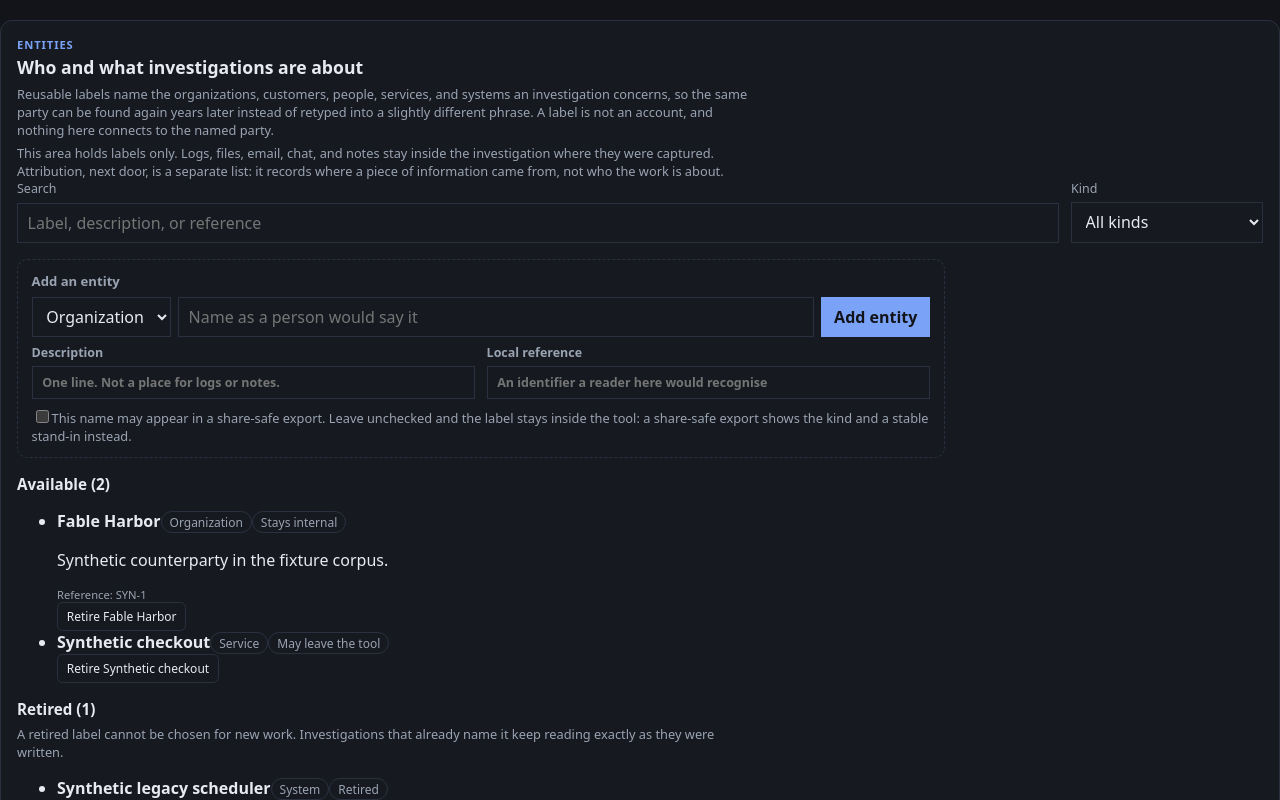
it: the Entities area › filters by kind and by search
Expected: the text "Fable Harbor" is shown, [57,510,160,532]
Select "Service (1)" in the dropdown named "Filter entities by kind": (1167, 222) [1071,202,1263,243]
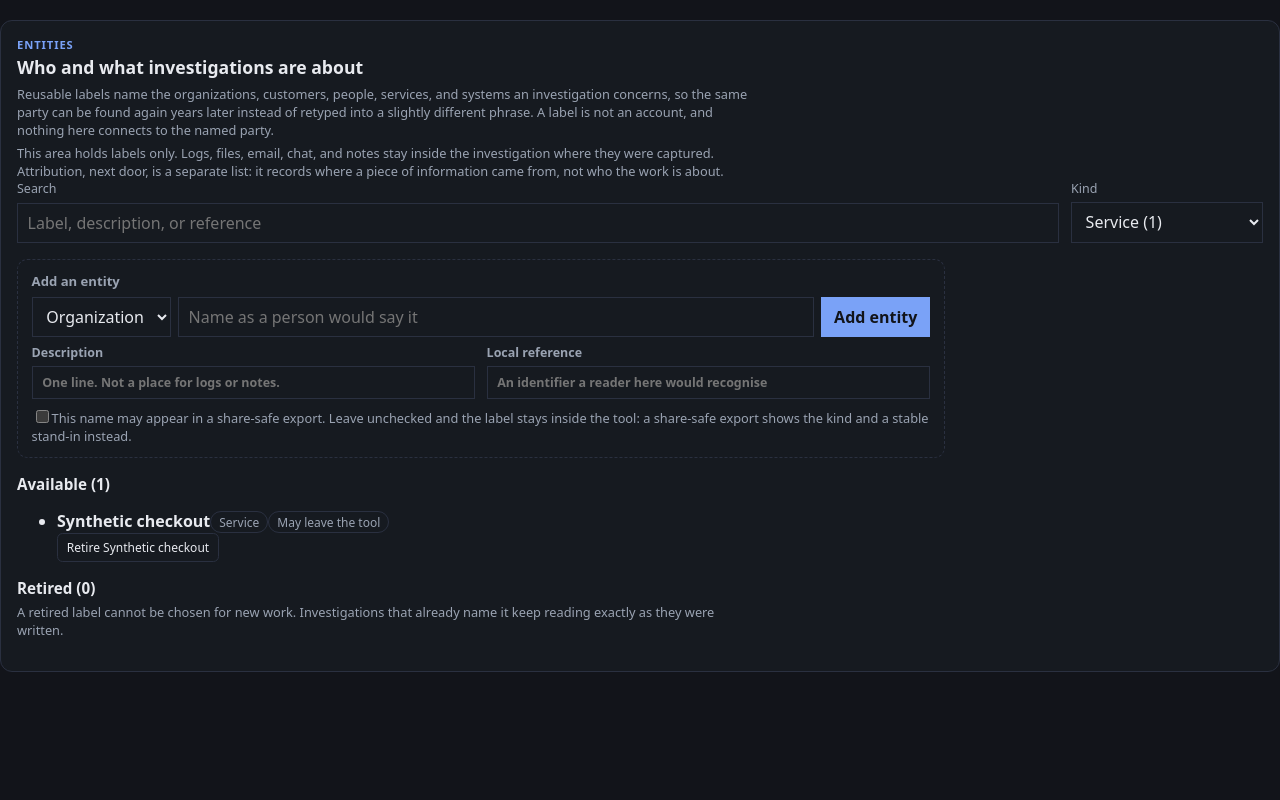
Expected: the text "Synthetic checkout" is shown, [57,510,210,532]
Result: the text "Fable Harbor" is gone
Select "All kinds" in the dropdown named "Filter entities by kind": (1167, 222) [1071,202,1263,243]
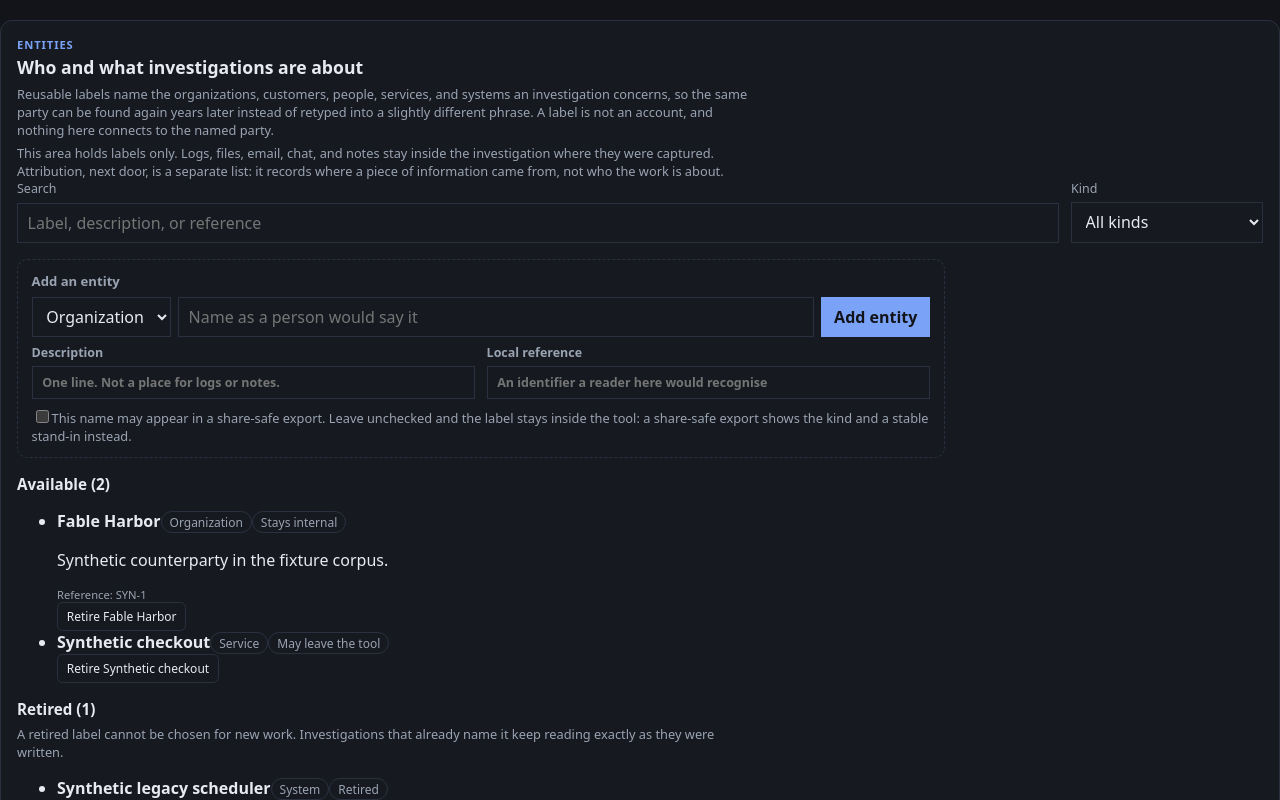
In the search field named "Search entities by label, description, or reference": (538, 223) [17,203,1059,243], type "harbor"
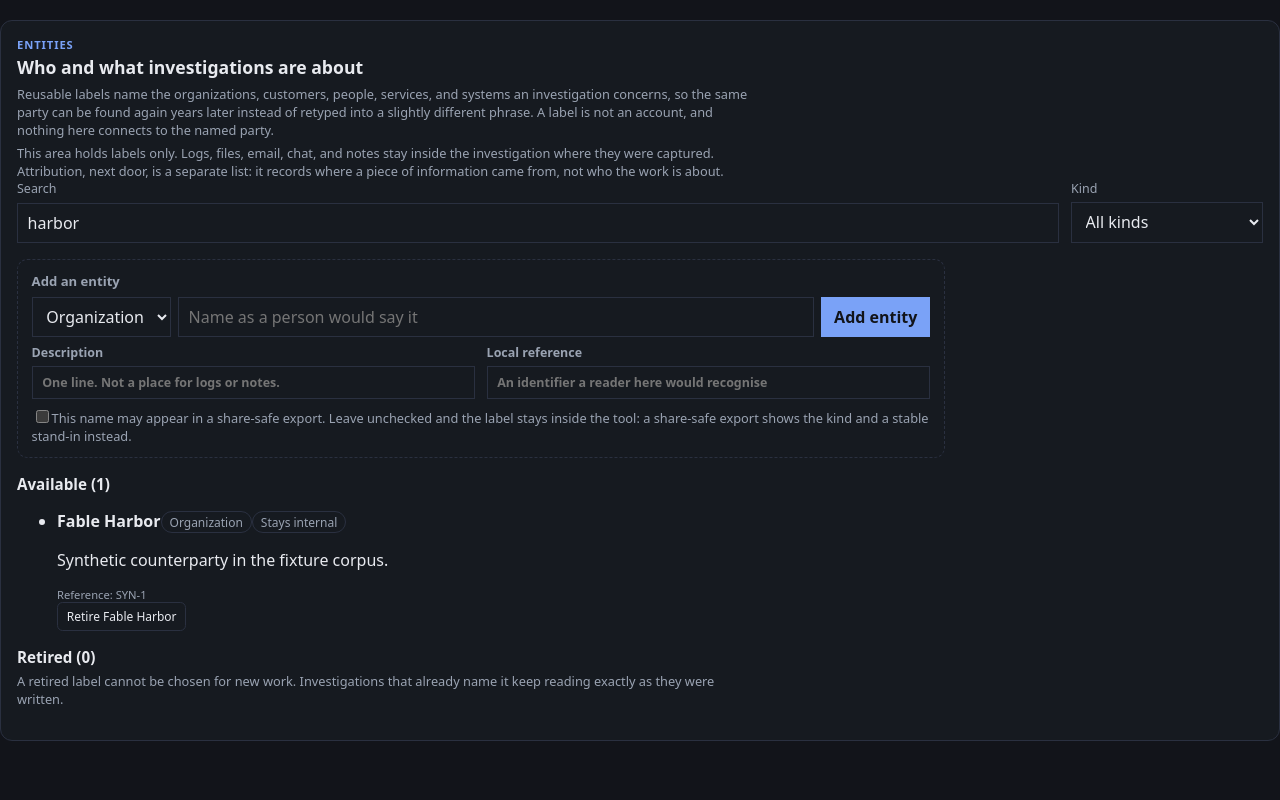
Result: the text "Fable Harbor" is shown at [57,510,160,532]
Result: the text "Synthetic checkout" is gone
